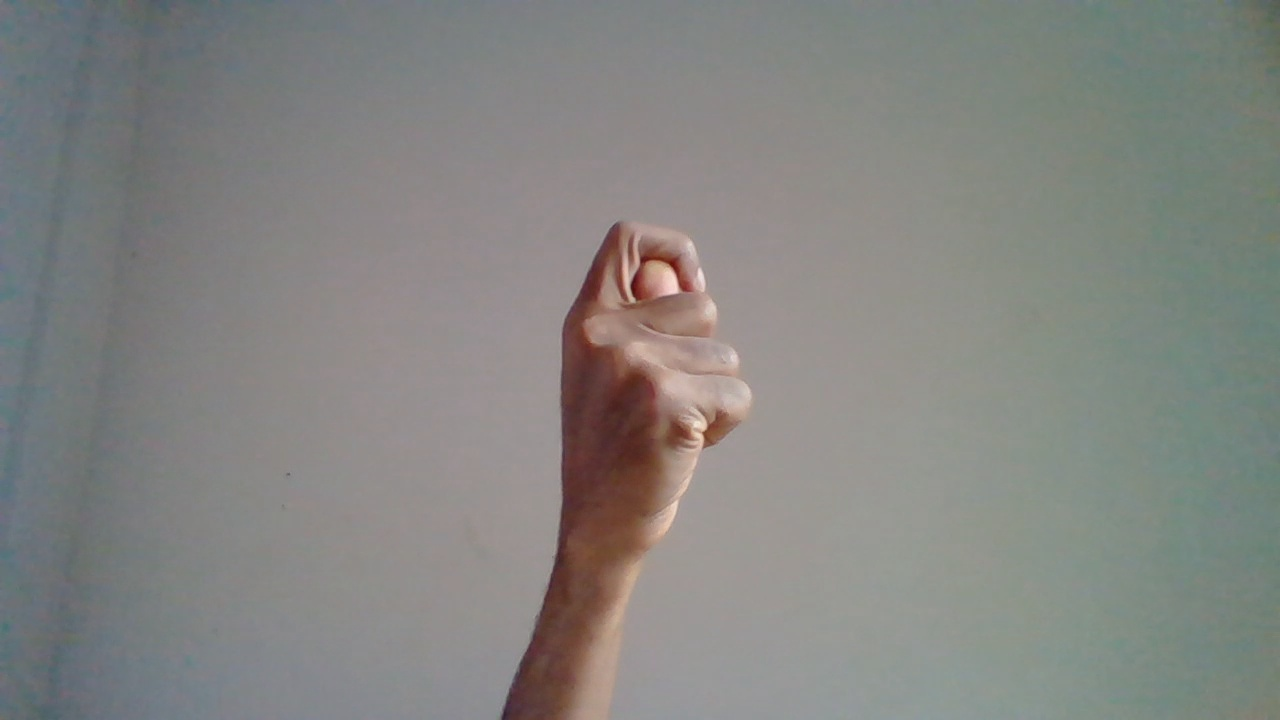che: (556, 212, 755, 652)
